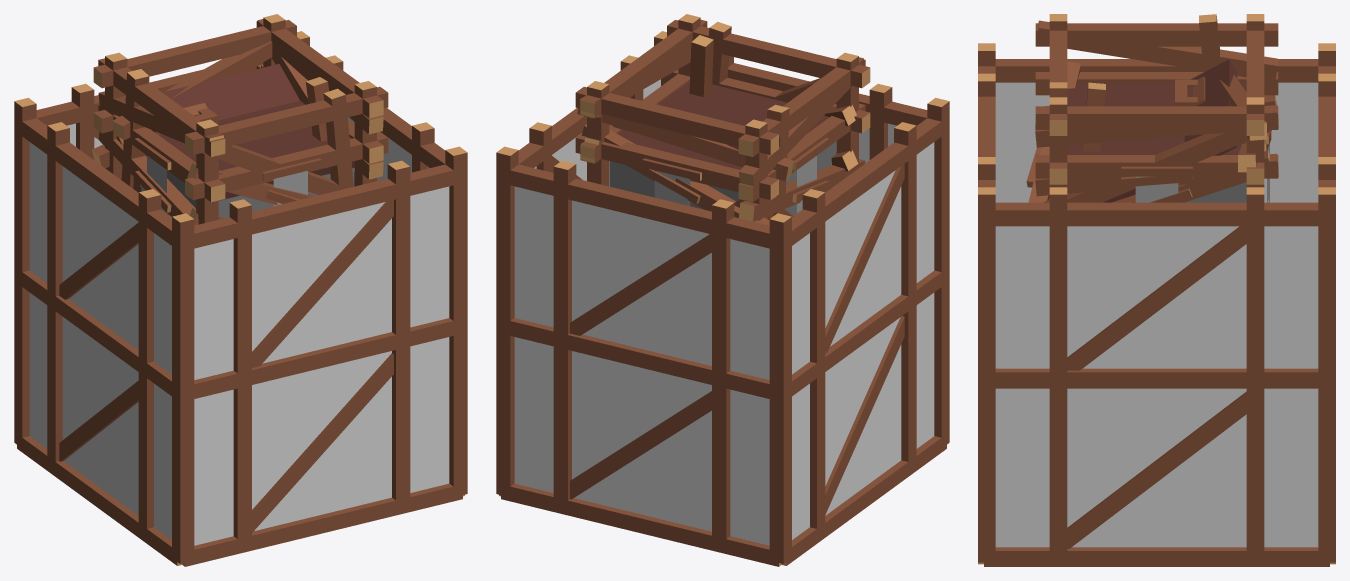
The model's file is Stone Tower 1.fbx.
The picture shows the model from 3 angles, left to right: view 1: azimuth 30°, elevation 25°; view 2: azimuth 150°, elevation 25°; view 3: azimuth 270°, elevation 25°; orthographic projection. The views are drawn at different scales.
Visible parts, largest first — view 1: Scaffold, Carcass, Destruction_phase_3, Destruction_phase_2, Second_Floor, Destruction_phase_1, Flag_1; view 2: Scaffold, Carcass, Destruction_phase_3, Second_Floor, Destruction_phase_2, Destruction_phase_1; view 3: Scaffold, Carcass, Destruction_phase_3, Destruction_phase_1, Second_Floor, Destruction_phase_2, Flag_2.
Part boxes in pixels (box(x1,y1,x2,y2)): Scaffold: box(14, 31, 467, 566); Carcass: box(93, 14, 388, 224); Destruction_phase_3: box(92, 41, 354, 225); Destruction_phase_2: box(152, 64, 328, 205); Second_Floor: box(145, 100, 354, 217); Destruction_phase_1: box(219, 19, 383, 200); Flag_1: box(273, 171, 307, 205); Scaffold: box(496, 31, 949, 566); Carcass: box(575, 14, 870, 220); Destruction_phase_3: box(577, 57, 865, 225); Second_Floor: box(609, 82, 836, 215); Destruction_phase_2: box(584, 35, 856, 158); Destruction_phase_1: box(580, 21, 731, 162); Scaffold: box(978, 43, 1335, 566); Carcass: box(1035, 14, 1278, 187); Destruction_phase_3: box(1036, 14, 1277, 202); Destruction_phase_1: box(1035, 82, 1278, 196); Second_Floor: box(1067, 79, 1246, 202); Destruction_phase_2: box(1026, 59, 1269, 202); Flag_2: box(1135, 176, 1178, 202).
Size of the model in its own units: 2 by 2.71 by 2.
